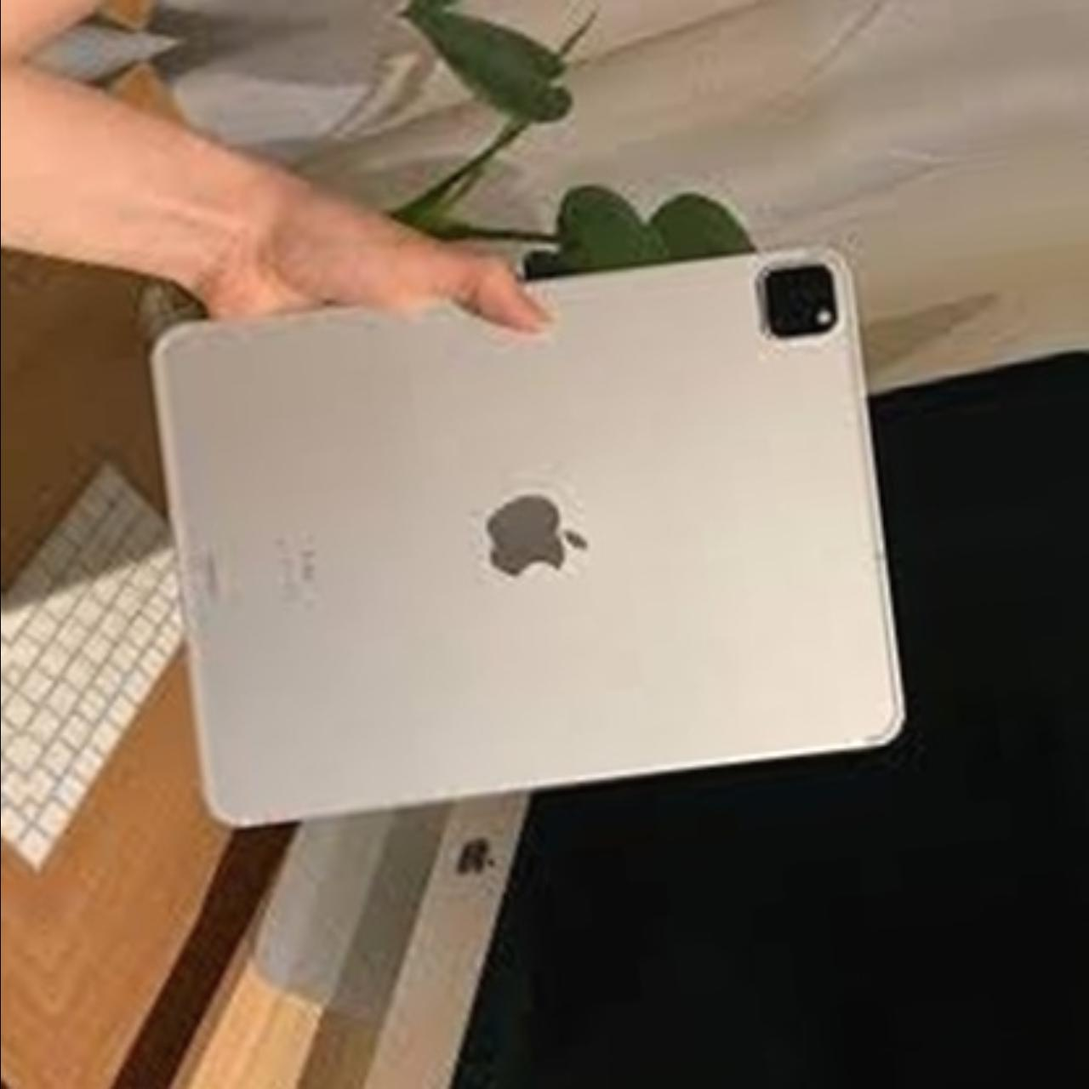Tablet_PC: (141, 226, 924, 849)
